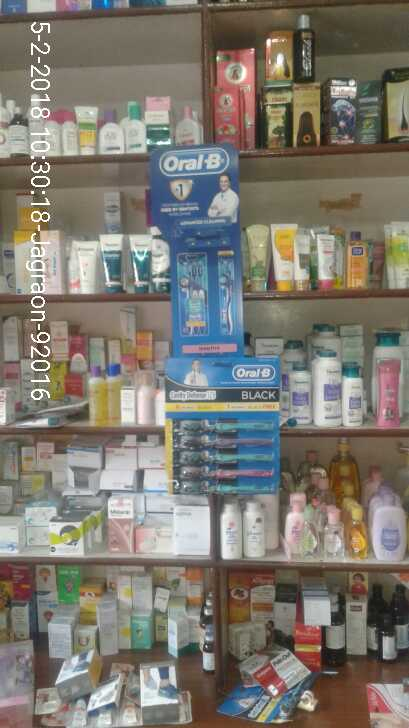oralb: (177, 404, 275, 435), (171, 460, 271, 481), (175, 443, 273, 464), (169, 432, 281, 449), (174, 476, 274, 495)
